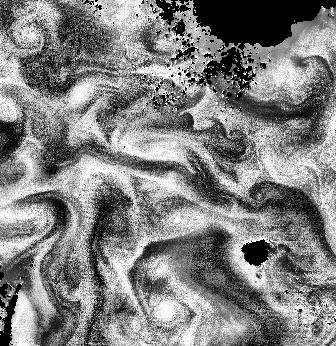CE: (144, 293, 194, 334), (13, 13, 45, 55)
